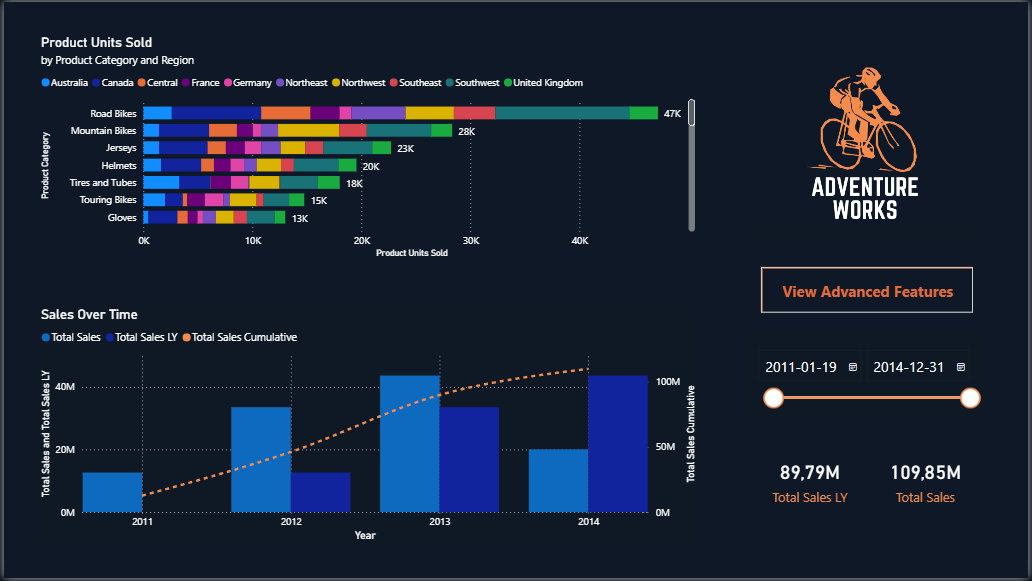

Layout of this report page (visuals, bound fields, positions):
{"tool":"powerbi","page":{"name":"1. Dashboard","canvas":[1280,720],"ordinal":0},"visuals":[{"type":"image","box":[930,63.3,288.3,238.3],"z":0},{"type":"slicer","fields":{"Values":["Date.Date"]},"box":[930,410,298.8,110],"z":1000},{"type":"lineClusteredColumnComboChart","title":"Sales Over Time","fields":{"Y":["FactSalesOrderDetail.Total Sales","FactSalesOrderDetail.Total Sales LY"],"Y2":["FactSalesOrderDetail.Total Sales Cumulative"],"Category":["Date.Date Hierarchy.Year","Date.Date Hierarchy.Month","Date.Date Hierarchy.Day"]},"box":[41.2,380,827.5,300],"z":2000},{"type":"card","fields":{"Values":["FactSalesOrderDetail.Total Sales"]},"box":[1075,547.5,153.8,98.8],"z":3000},{"type":"card","fields":{"Values":["FactSalesOrderDetail.Total Sales LY"]},"box":[935,547.5,145,98.8],"z":4000},{"type":"actionButton","title":"View Anvanced Feature","box":[946.7,331.7,265,56.7],"z":5000},{"type":"barChart","fields":{"Category":["DimProduct.CategoryHierarcy.Product Category","DimProduct.CategoryHierarcy.Product Model","DimProduct.CategoryHierarcy.Product Name"],"Series":["Sales Customer.SalesTerritory.Name"],"Y":["Sum(FactSalesOrderDetail.OrderQty)"]},"box":[41.2,40,827.5,285],"z":6000}]}

Visuals, with their boxes in screenshot pixels (x1, y1, x2, y2), scaled from the page's 1280x720 canvas onto the 1032x581 screenshot:
image: (x1=750, y1=51, x2=982, y2=243)
slicer - Date.Date: (x1=750, y1=331, x2=991, y2=420)
"Sales Over Time" lineClusteredColumnComboChart: (x1=33, y1=307, x2=700, y2=549)
card - FactSalesOrderDetail.Total Sales: (x1=867, y1=442, x2=991, y2=522)
card - FactSalesOrderDetail.Total Sales LY: (x1=754, y1=442, x2=871, y2=522)
"View Anvanced Feature" actionButton: (x1=763, y1=268, x2=977, y2=313)
barChart - DimProduct.CategoryHierarcy.Product Category x DimProduct.CategoryHierarcy.Product Model: (x1=33, y1=32, x2=700, y2=262)
